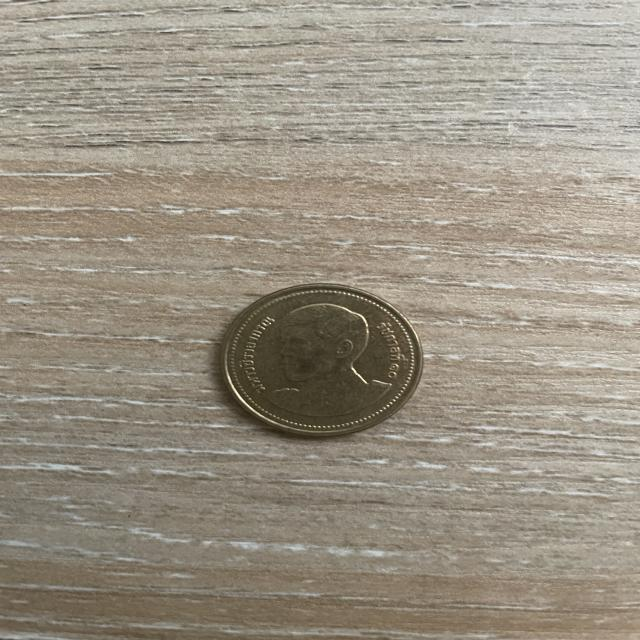2 Bath: (207, 279, 439, 446)
